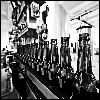beer: (49, 39, 58, 87)
